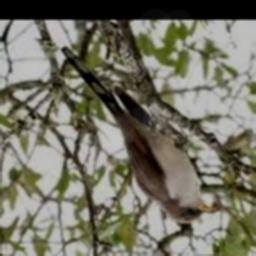Cuckoo: (60, 44, 214, 224)
